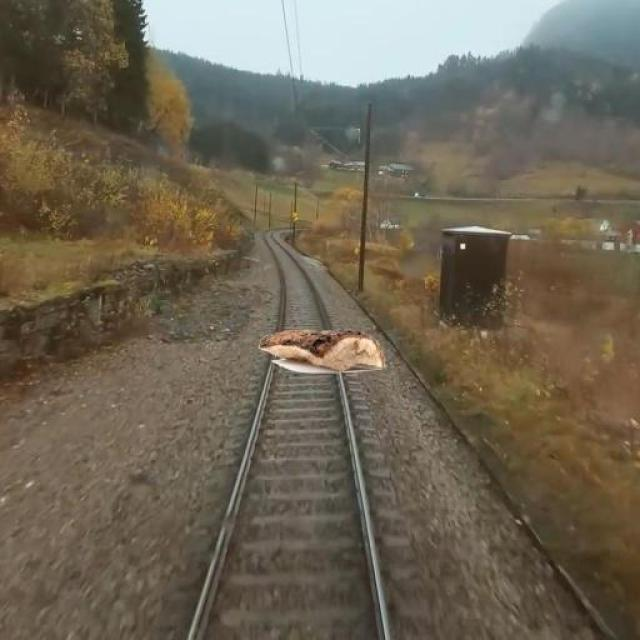Branches: (254, 320, 392, 386)
